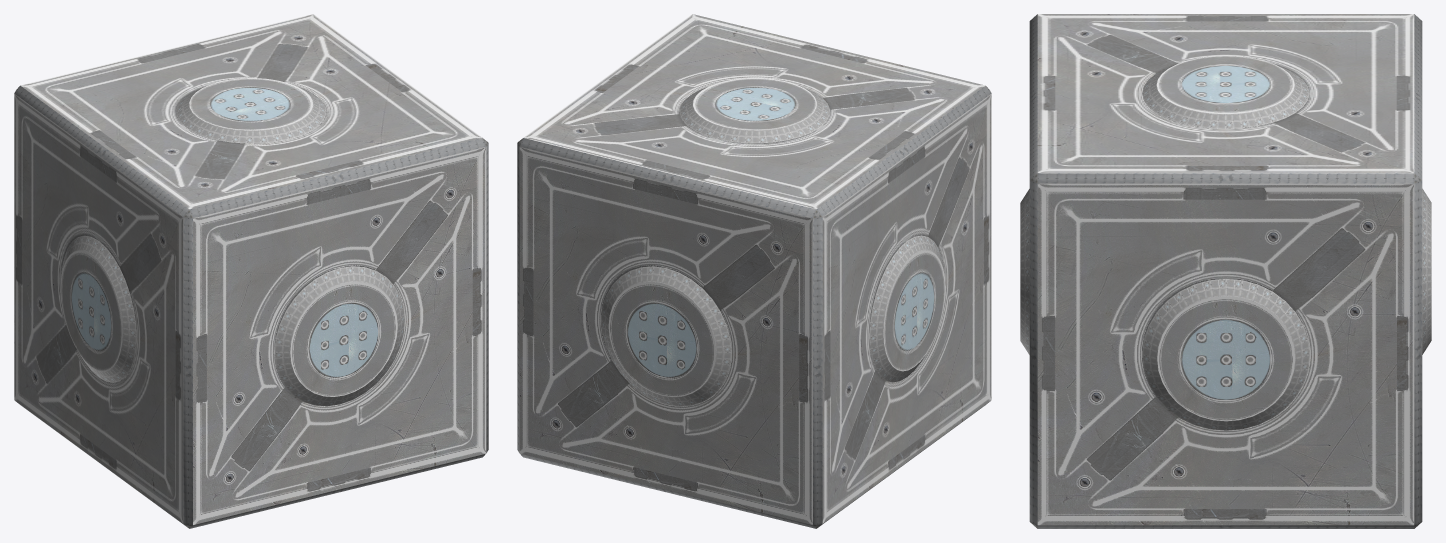
Rendered from SM_Crate2.fbx.
3 views of the same model, side by side, from view 1: azimuth 30°, elevation 25°; view 2: azimuth 150°, elevation 25°; view 3: azimuth 270°, elevation 25° (orthographic). The views are drawn at different scales.
Parts seen in each view (by area): view 1: SM_Crate2_LOD0; view 2: SM_Crate2_LOD0; view 3: SM_Crate2_LOD0.
Boxes of the visible parts, bbox=[...] form: SM_Crate2_LOD0: bbox=[14, 14, 488, 528]; SM_Crate2_LOD0: bbox=[517, 14, 991, 528]; SM_Crate2_LOD0: bbox=[1020, 14, 1431, 528].
Size of the model in its own units: 105 by 105 by 105.
